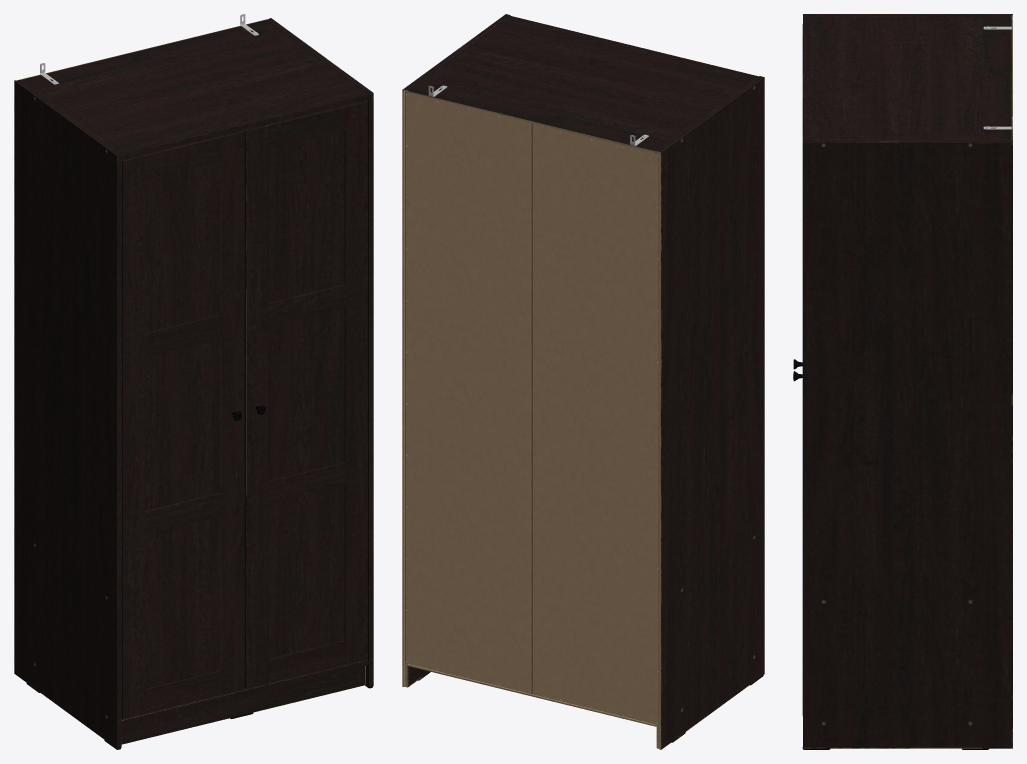
Rendered from rakkestad_szafa_2_drzwi_50453758.glb.
3 renders of one model, left to right at view 1: azimuth 30°, elevation 25°; view 2: azimuth 150°, elevation 25°; view 3: azimuth 270°, elevation 25°, orthographic. The views are drawn at different scales.
Visible parts, largest first — view 1: rakkestad_szafa_2_drzwi_50453758; view 2: rakkestad_szafa_2_drzwi_50453758; view 3: rakkestad_szafa_2_drzwi_50453758.
Part boxes in pixels (bbox=[...]): rakkestad_szafa_2_drzwi_50453758: bbox=[14, 14, 373, 749]; rakkestad_szafa_2_drzwi_50453758: bbox=[402, 14, 764, 749]; rakkestad_szafa_2_drzwi_50453758: bbox=[793, 14, 1012, 749].
Size of the model in its own units: 0.795 by 1.79 by 0.5754.
Materials: 1 (1 with a texture image).
